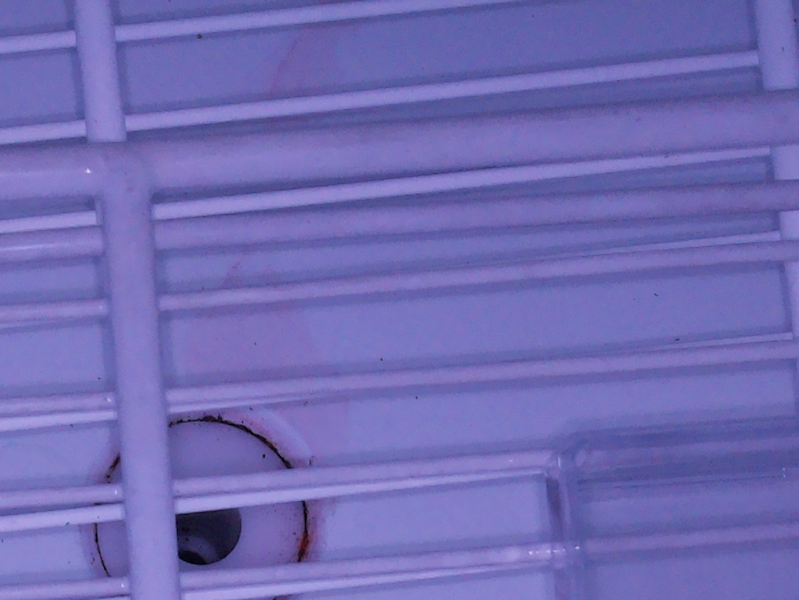plate: (542, 413, 799, 600)
